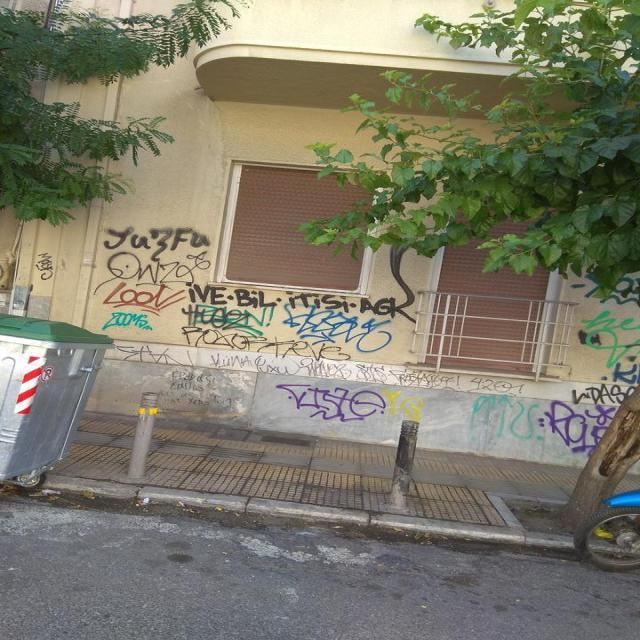nonspitting: (186, 281, 417, 322), (302, 357, 524, 393), (182, 326, 352, 362), (281, 304, 394, 353), (92, 250, 212, 294), (539, 399, 616, 454), (278, 384, 388, 422), (104, 228, 212, 262), (580, 310, 640, 368), (469, 394, 544, 440), (183, 304, 275, 339), (103, 282, 187, 316), (168, 369, 238, 406), (208, 352, 300, 376), (118, 345, 194, 367), (570, 384, 638, 404), (384, 389, 423, 422), (100, 310, 154, 332), (599, 362, 640, 386), (36, 252, 54, 280)
